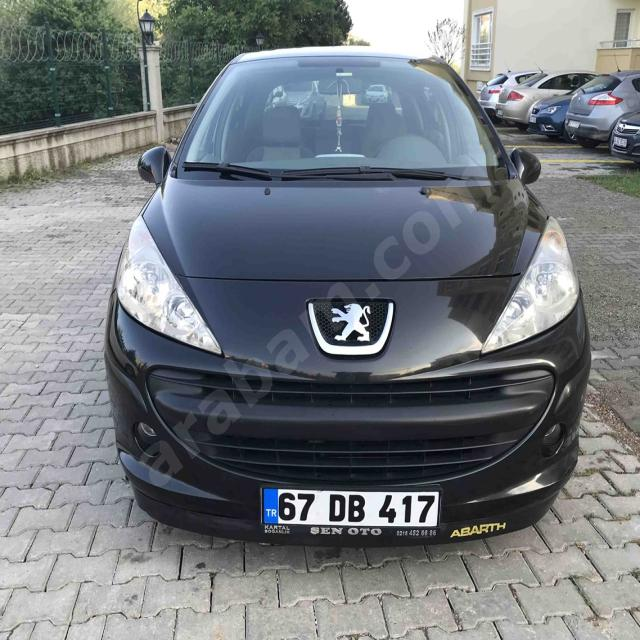license_plate: (261, 487, 440, 527)
